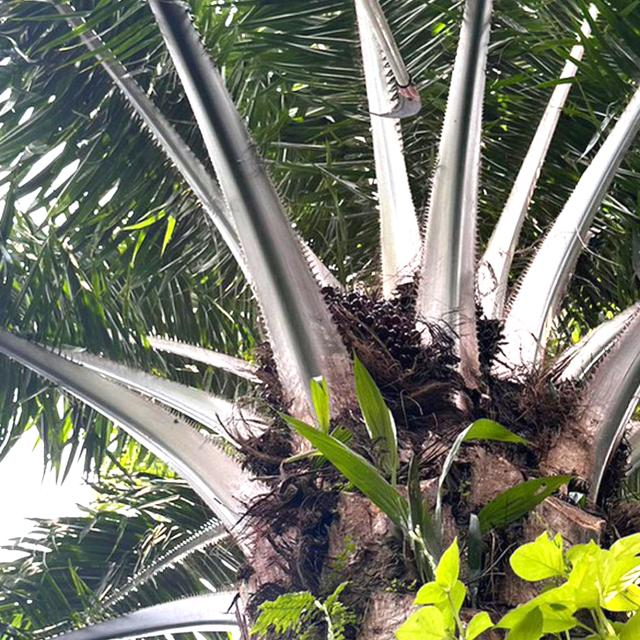unripe: (315, 270, 428, 393)
